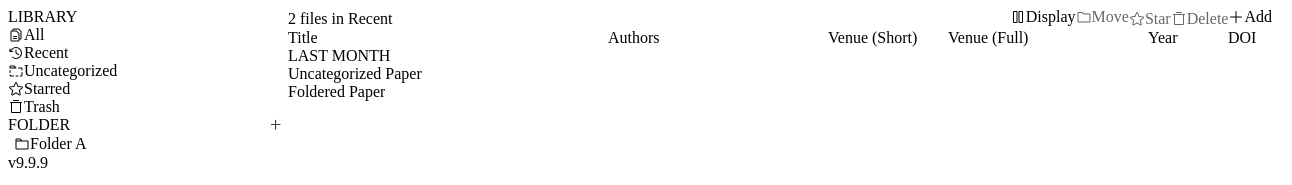
it: Folder filter + move (Story 7.2) › REGRESSION: selecting a folder filters visible rows to that folder's papers only
This screenshot has width=1292, height=185.
Expected: the text "Uncategorized Paper" is shown, top-left (288, 65), bottom-right (422, 83)
Expected: the text "Foldered Paper" is shown, top-left (288, 83), bottom-right (385, 101)
Click the button "Folder A" at (58,144), box top-left (8, 134), bottom-right (288, 154)
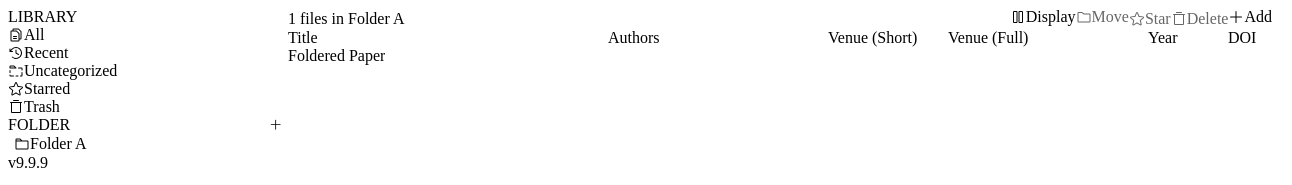
Expected: the text "Foldered Paper" is shown, top-left (288, 47), bottom-right (385, 65)
Result: the text "Uncategorized Paper" is gone
